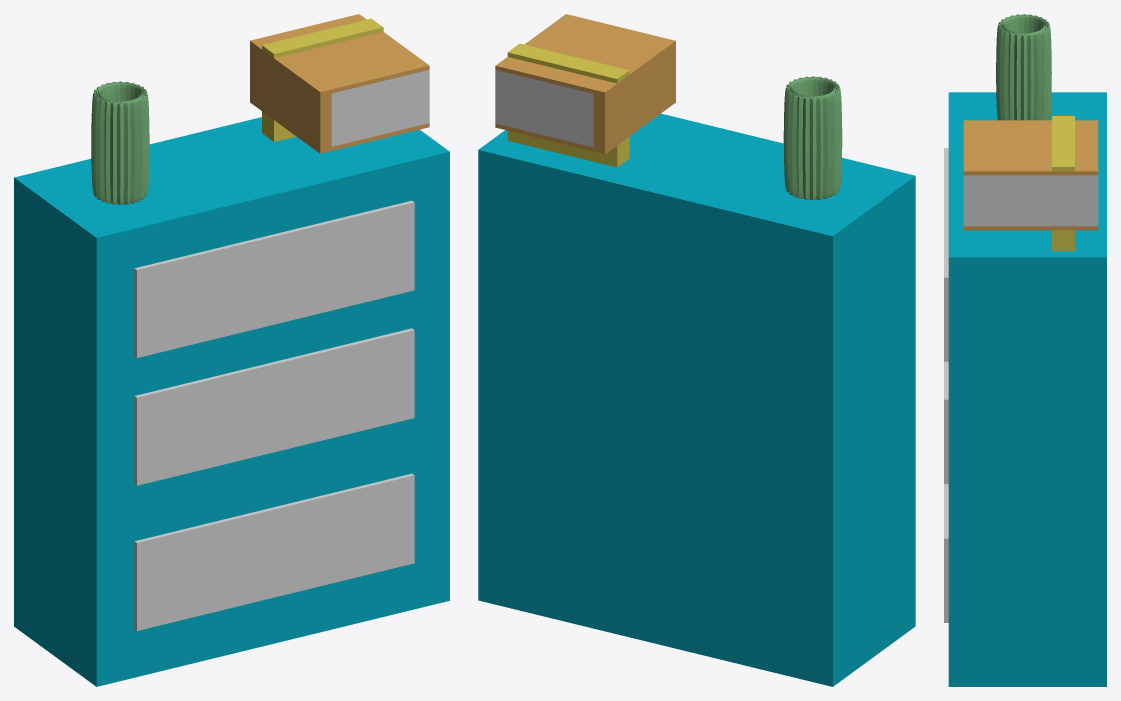
The model's file is Fabulous Stantia-Vihelmo.glb.
3 renders of one model, left to right at view 1: azimuth 30°, elevation 25°; view 2: azimuth 150°, elevation 25°; view 3: azimuth 270°, elevation 25°, orthographic. The views are drawn at different scales.
Parts seen in each view (by area): view 1: Mesh_Mesh_head_geo.001_lambert2SG.001; view 2: Mesh_Mesh_head_geo.001_lambert2SG.001; view 3: Mesh_Mesh_head_geo.001_lambert2SG.001.
Boxes of the visible parts, left/top/right/bottom form: Mesh_Mesh_head_geo.001_lambert2SG.001: left=14, top=14, right=449, bottom=686; Mesh_Mesh_head_geo.001_lambert2SG.001: left=478, top=14, right=915, bottom=686; Mesh_Mesh_head_geo.001_lambert2SG.001: left=944, top=14, right=1106, bottom=686.
Bounding box in the file's own units: 84 × 125 × 35.
